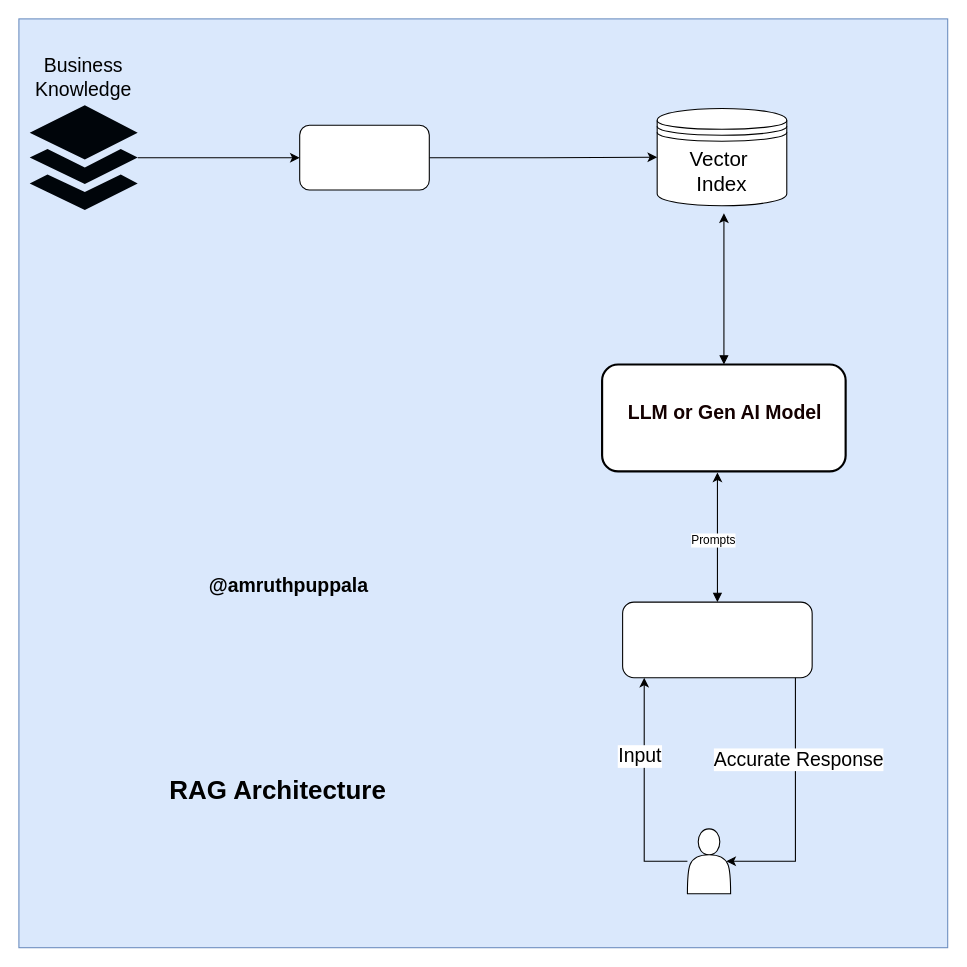
Some shapes in this 967 by 967 pixel diagram are drawn without their labels. Each missing label, with the box of its shape:
Chat Interface: (622, 601, 812, 678)
Generate Embeddings: (299, 124, 429, 190)
